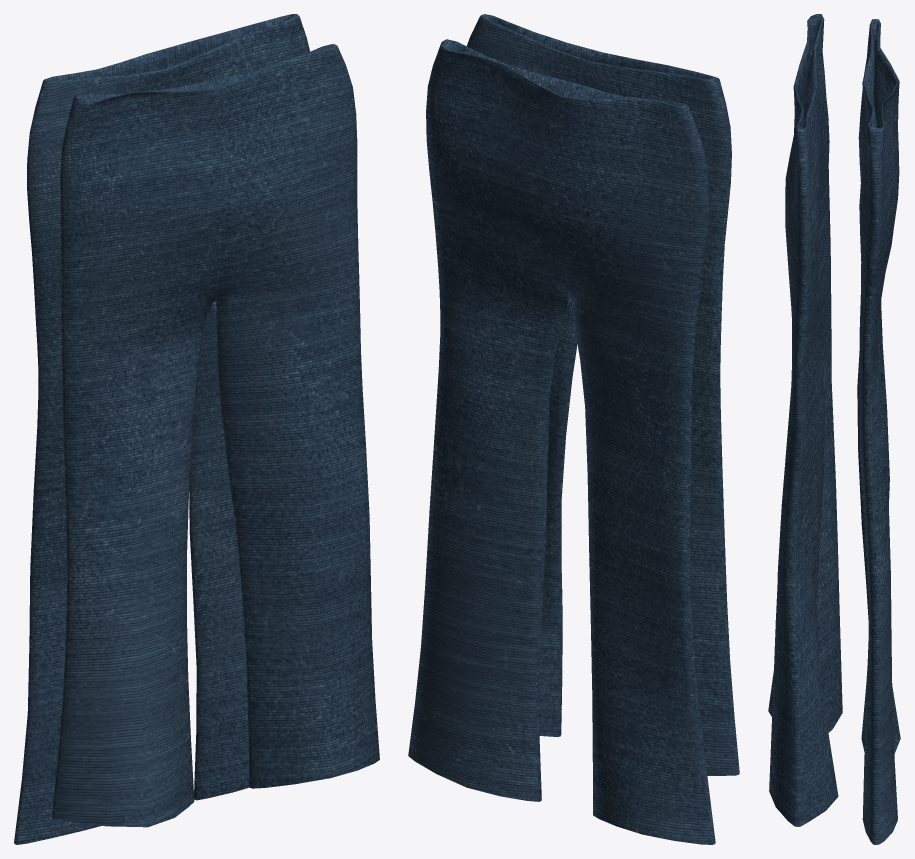
Rendered from yifu12kuzi_04.fbx.
The picture shows the model from 3 angles, left to right: view 1: azimuth 30°, elevation 25°; view 2: azimuth 150°, elevation 25°; view 3: azimuth 270°, elevation 25°; orthographic projection. The views are drawn at different scales.
Visible parts, largest first — view 1: yifu12kuzi_04; view 2: yifu12kuzi_04; view 3: yifu12kuzi_04.
Boxes of the visible parts, x1=… form: yifu12kuzi_04: x1=14, y1=14, x2=379, y2=844; yifu12kuzi_04: x1=408, y1=14, x2=739, y2=844; yifu12kuzi_04: x1=768, y1=14, x2=900, y2=844.
Size of the model in its own units: 44.31 by 99.88 by 16.77.
